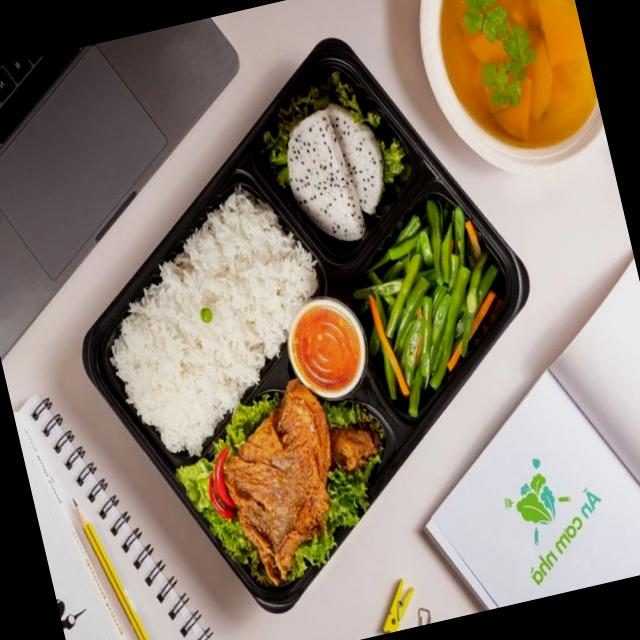canh bi do: (440, 0, 597, 149)
com: (112, 185, 318, 454)
dau que: (356, 198, 497, 416)
nuoc mam: (288, 296, 367, 399)
ot: (208, 446, 236, 519)
rau: (177, 392, 280, 584), (286, 401, 385, 580), (263, 69, 380, 187), (382, 141, 402, 179)
suon mieng: (223, 378, 380, 583)
thanh long: (287, 110, 365, 239), (327, 103, 384, 214)
